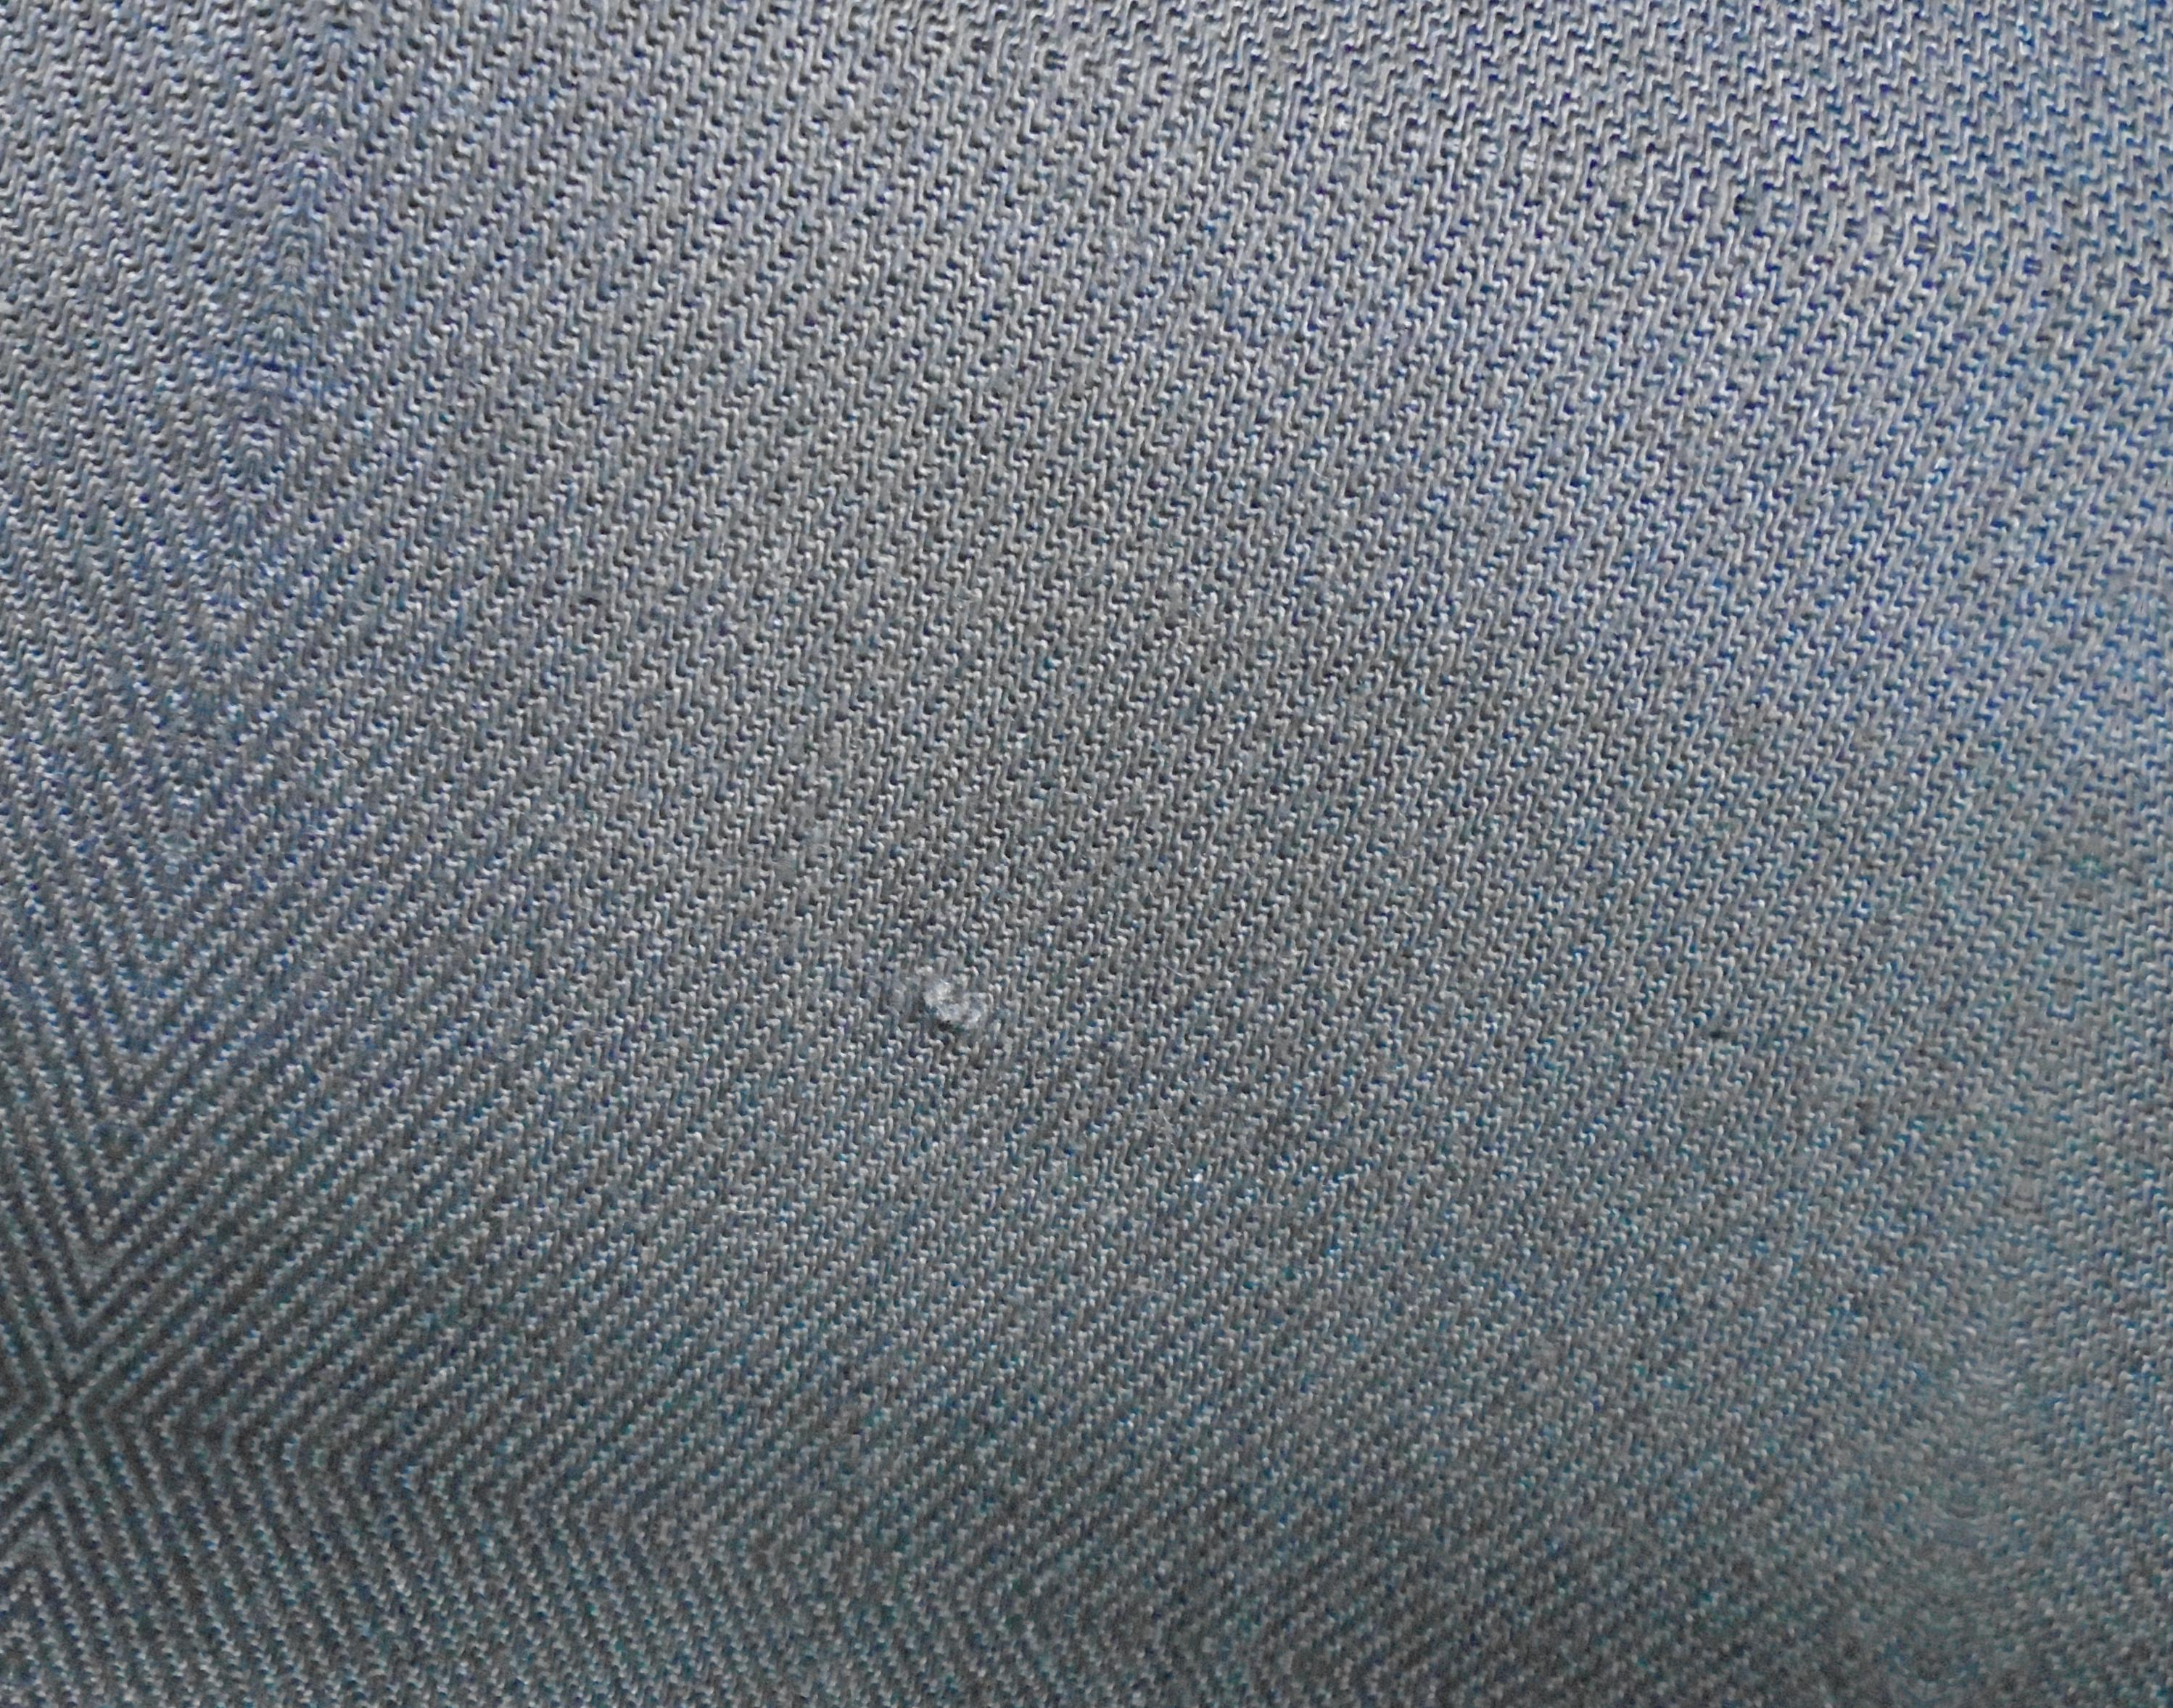knot: (891, 942, 1027, 1078)
